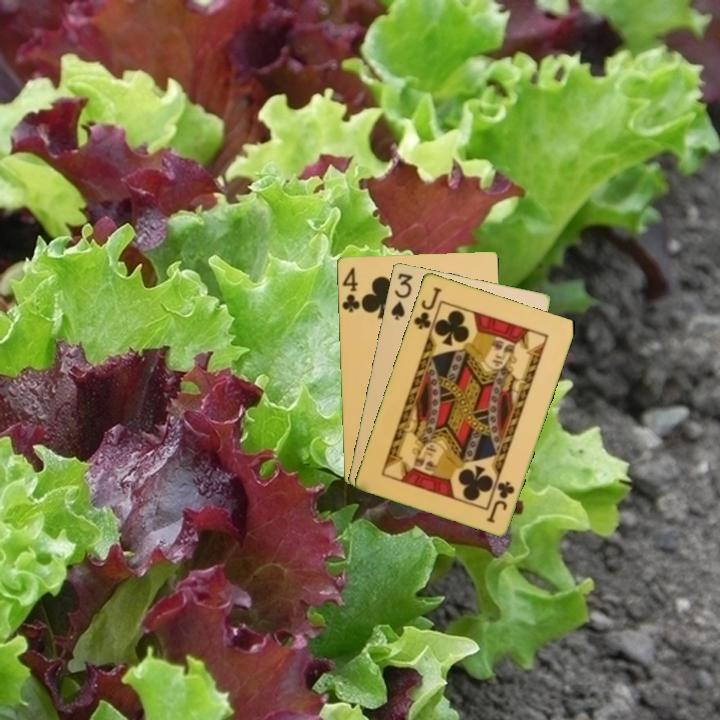3s: (387, 269, 415, 322)
4c: (338, 263, 362, 315)
Jc: (410, 283, 444, 332), (484, 477, 517, 525)
